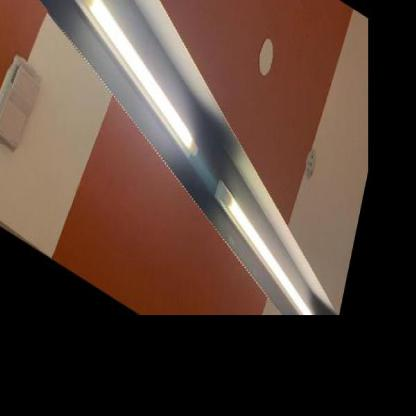light_on: (41, 0, 222, 172), (192, 160, 337, 356)
